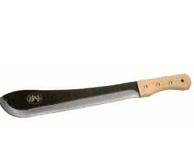MACHETTE: (0, 72, 194, 134)
